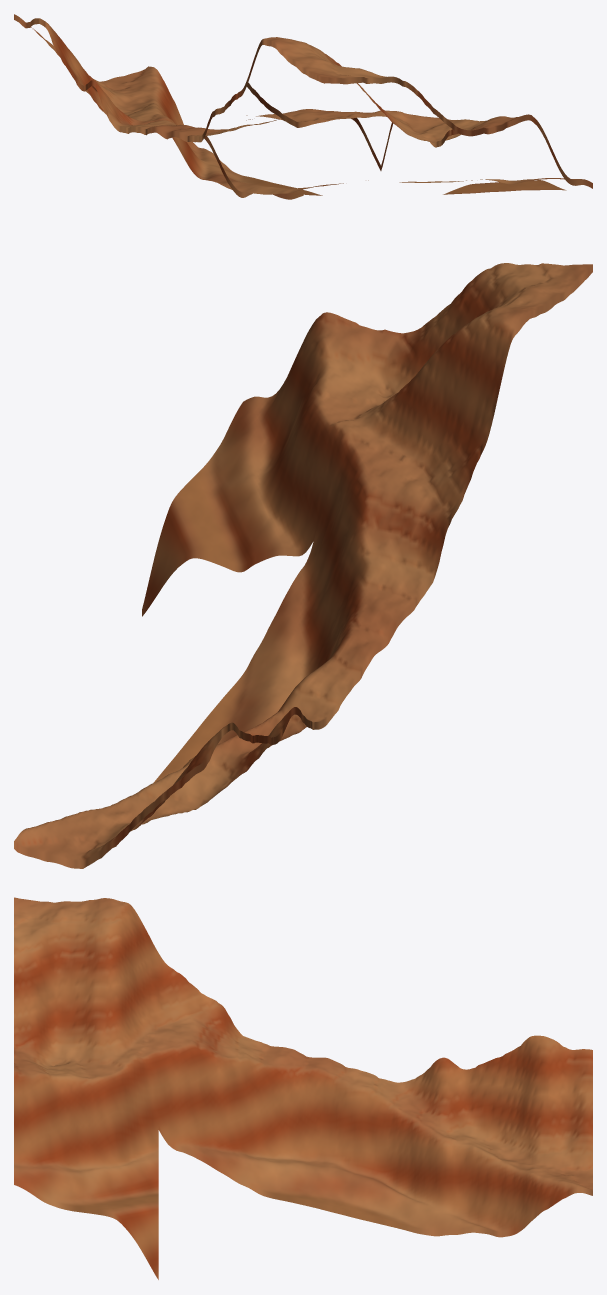
Rendered from terrain-011.glb.
3 renders of one model, top to bottom at view 1: azimuth 30°, elevation 25°; view 2: azimuth 150°, elevation 25°; view 3: azimuth 270°, elevation 25°, orthographic. The views are drawn at different scales.
Parts seen in each view (by area): view 1: terrain-011; view 2: terrain-011; view 3: terrain-011.
Boxes of the visible parts, bbox=[...] form: terrain-011: bbox=[14, 14, 592, 199]; terrain-011: bbox=[14, 263, 592, 868]; terrain-011: bbox=[14, 897, 592, 1279].
Bounding box in the file's own units: 192 × 204 × 384.
